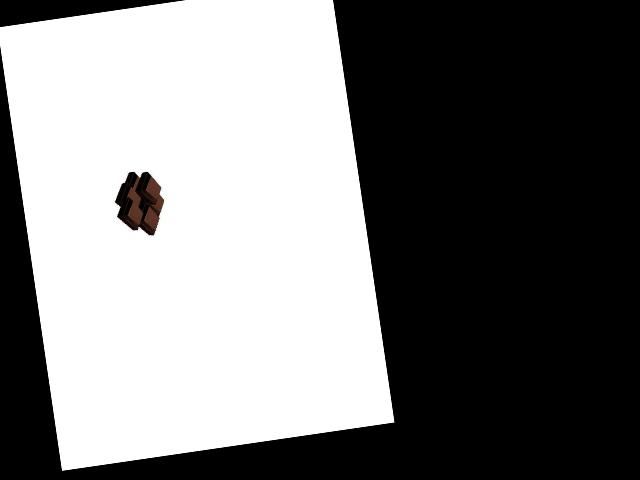chocolate: (112, 165, 170, 238)
